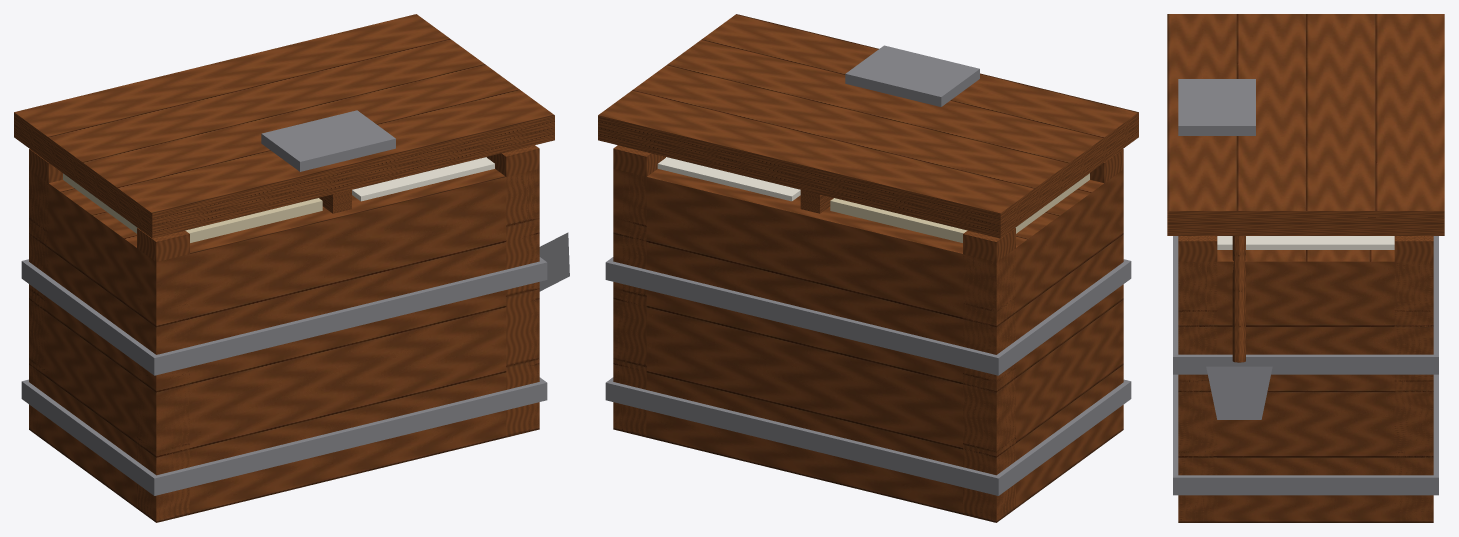
Rendered from blacksmith-forge-and-armoury-blacksmith-forge-and-armo-c676fb6e__37607.glb.
3 renders of one model, left to right at view 1: azimuth 30°, elevation 25°; view 2: azimuth 150°, elevation 25°; view 3: azimuth 270°, elevation 25°, orthographic.
Parts seen in each view (by area): view 1: blacksmith-forge-and-armoury-sand-and-flux-bin, lid/timber, lid/iron; view 2: blacksmith-forge-and-armoury-sand-and-flux-bin, lid/timber, lid/iron; view 3: blacksmith-forge-and-armoury-sand-and-flux-bin, lid/timber, lid/iron.
Boxes of the visible parts, x1,y1,x2,y2 form: blacksmith-forge-and-armoury-sand-and-flux-bin: (21,145,569,522); lid/timber: (14,14,554,238); lid/iron: (261,110,395,171); blacksmith-forge-and-armoury-sand-and-flux-bin: (605,145,1131,522); lid/timber: (598,14,1138,238); lid/iron: (845,45,979,106); blacksmith-forge-and-armoury-sand-and-flux-bin: (1173,236,1438,522); lid/timber: (1167,14,1444,235); lid/iron: (1178,79,1255,135).
Bounding box in the file's own units: 0.9235 × 0.65 × 0.5.
Materials: 4 (1 with a texture image).
